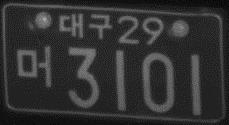0: (141, 52, 175, 112)
1: (183, 55, 210, 114), (108, 50, 133, 111)
2: (117, 15, 139, 44)
3: (66, 46, 99, 107)
9: (142, 16, 163, 45)
대구_O: (58, 12, 112, 40)
머: (16, 45, 51, 87)
